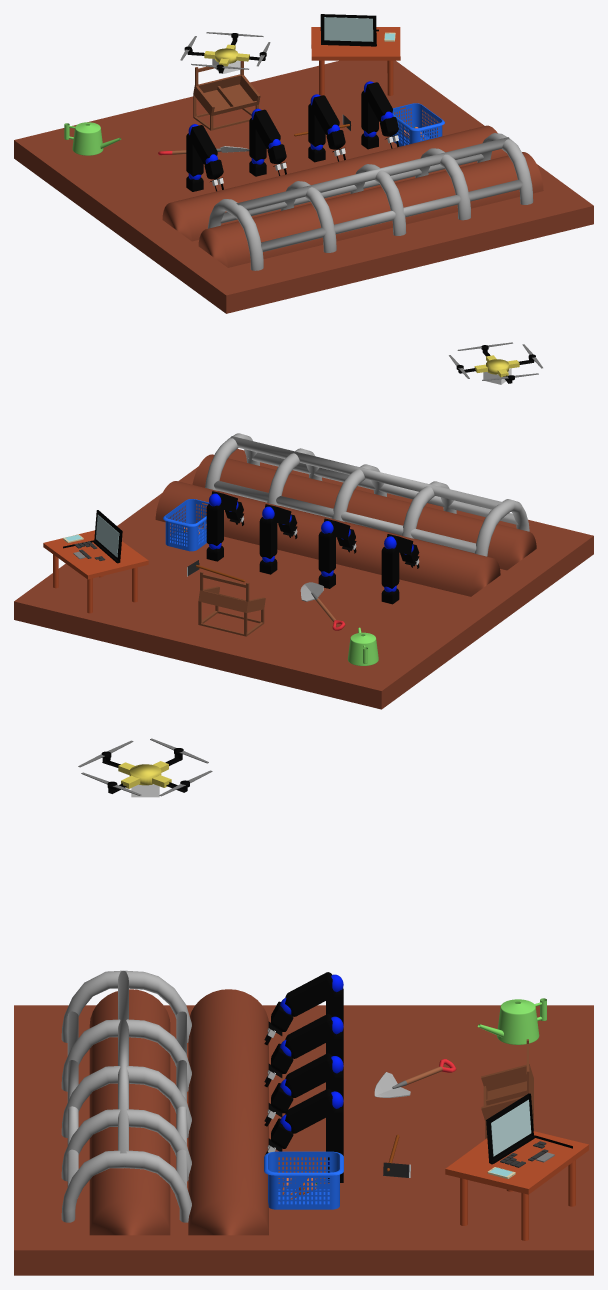
Rendered from prot.glb.
The picture shows the model from 3 angles, top to bottom: view 1: azimuth 30°, elevation 25°; view 2: azimuth 150°, elevation 25°; view 3: azimuth 270°, elevation 25°; orthographic projection. The views are drawn at different scales.
Parts seen in each view (by area): view 1: smanou hatake1, smanou honrgumi1, smanou hatake2, smanou hatake3, yasaidai, tukue, arm dodai1, arm dodai1.001, arm dodai1.002, arm dodai1.003, pc dodai1, Basket (+2 smaller); view 2: smanou hatake1, smanou honrgumi1, smanou hatake3, smanou hatake2, tukue, yasaidai, Basket, arm dodai1.001, arm dodai1.003, arm dodai1, arm dodai1.002, doron hontai (+3 smaller); view 3: smanou hatake1, smanou hatake3, smanou honrgumi1, smanou hatake2, tukue, Basket, arm dodai1, pc dodai1, doron hontai, arm dodai1.003, arm dodai1.002, arm dodai1.001 (+3 smaller).
Boxes of the visible parts, x1=… form: smanou hatake1: x1=14, y1=60, x2=593, y2=313; smanou honrgumi1: x1=207, y1=133, x2=533, y2=270; smanou hatake2: x1=198, y1=152, x2=543, y2=267; smanou hatake3: x1=162, y1=125, x2=506, y2=241; yasaidai: x1=193, y1=61, x2=260, y2=130; tukue: x1=311, y1=27, x2=400, y2=95; arm dodai1: x1=361, y1=81, x2=399, y2=149; arm dodai1.001: x1=308, y1=94, x2=345, y2=162; arm dodai1.002: x1=249, y1=108, x2=286, y2=176; arm dodai1.003: x1=186, y1=124, x2=223, y2=191; pc dodai1: x1=320, y1=14, x2=378, y2=46; Basket: x1=390, y1=103, x2=444, y2=146; smanou hatake1: x1=14, y1=449, x2=593, y2=709; smanou honrgumi1: x1=205, y1=433, x2=529, y2=556; smanou hatake3: x1=155, y1=481, x2=500, y2=596; smanou hatake2: x1=192, y1=454, x2=536, y2=570; tukue: x1=43, y1=530, x2=148, y2=613; yasaidai: x1=198, y1=571, x2=265, y2=636; Basket: x1=163, y1=499, x2=209, y2=551; arm dodai1.001: x1=259, y1=504, x2=297, y2=574; arm dodai1.003: x1=381, y1=534, x2=419, y2=604; arm dodai1: x1=206, y1=491, x2=243, y2=561; arm dodai1.002: x1=318, y1=518, x2=356, y2=588; doron hontai: x1=449, y1=342, x2=542, y2=384; smanou hatake1: x1=14, y1=1005, x2=593, y2=1275; smanou hatake3: x1=188, y1=989, x2=268, y2=1235; smanou honrgumi1: x1=61, y1=970, x2=191, y2=1222; smanou hatake2: x1=89, y1=989, x2=170, y2=1235; tukue: x1=445, y1=1131, x2=588, y2=1240; Basket: x1=264, y1=1151, x2=343, y2=1209; arm dodai1: x1=265, y1=1089, x2=343, y2=1182; pc dodai1: x1=486, y1=1093, x2=572, y2=1167; doron hontai: x1=78, y1=738, x2=212, y2=797; arm dodai1.003: x1=264, y1=972, x2=343, y2=1045; arm dodai1.002: x1=264, y1=1014, x2=343, y2=1087; arm dodai1.001: x1=264, y1=1053, x2=343, y2=1126.
Bounding box in the file's own units: 8.14 × 4.57 × 8.14.
